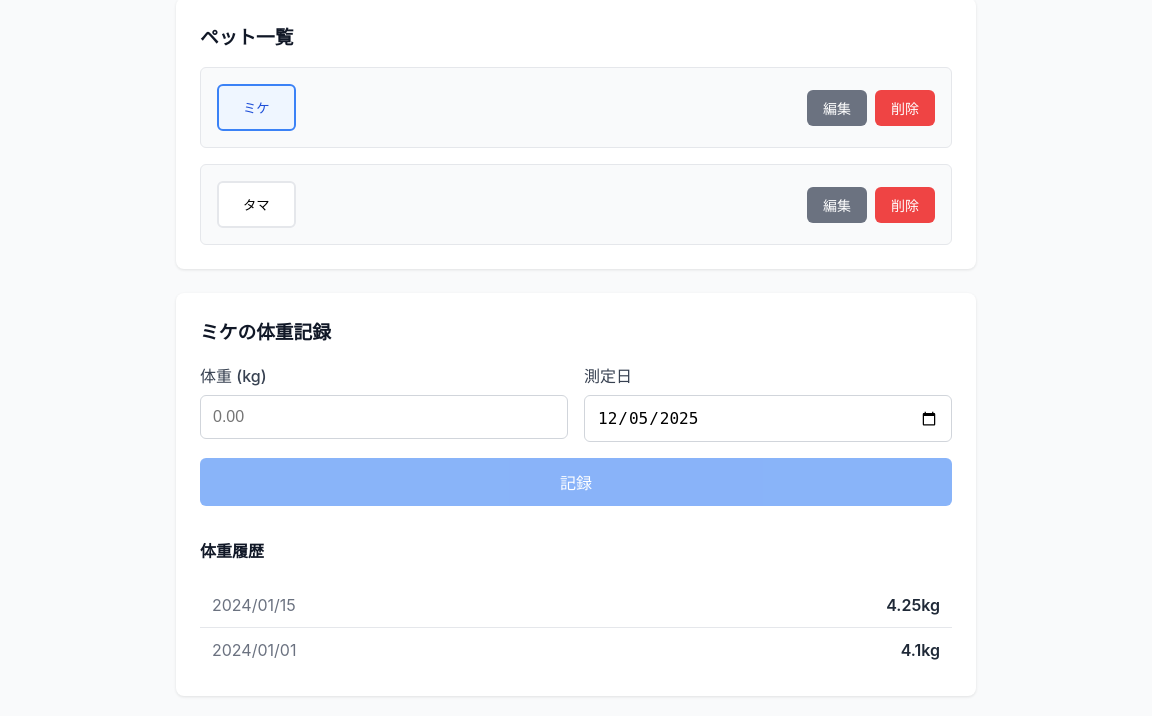
Test case: PetManagement › Weight Record Input Validation › should display error message for invalid weight input
(page scrolled)
Expected: the heading "ミケの体重記録" is shown, top-left (200, 321), bottom-right (331, 344)
Step 1. Type "0" into the number field with placeholder "0.00" → (384, 417), box top-left (200, 395), bottom-right (568, 439)
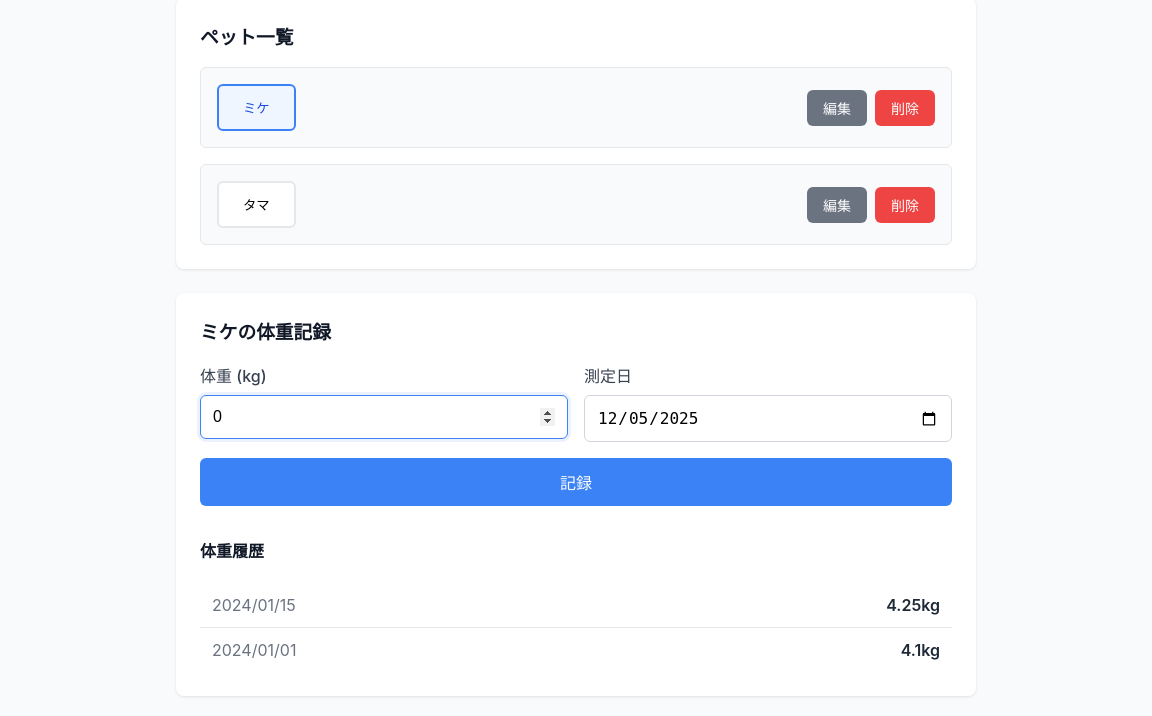
Step 2. Click the button "記録" → (576, 482), box top-left (200, 458), bottom-right (952, 506)
(page scrolled)
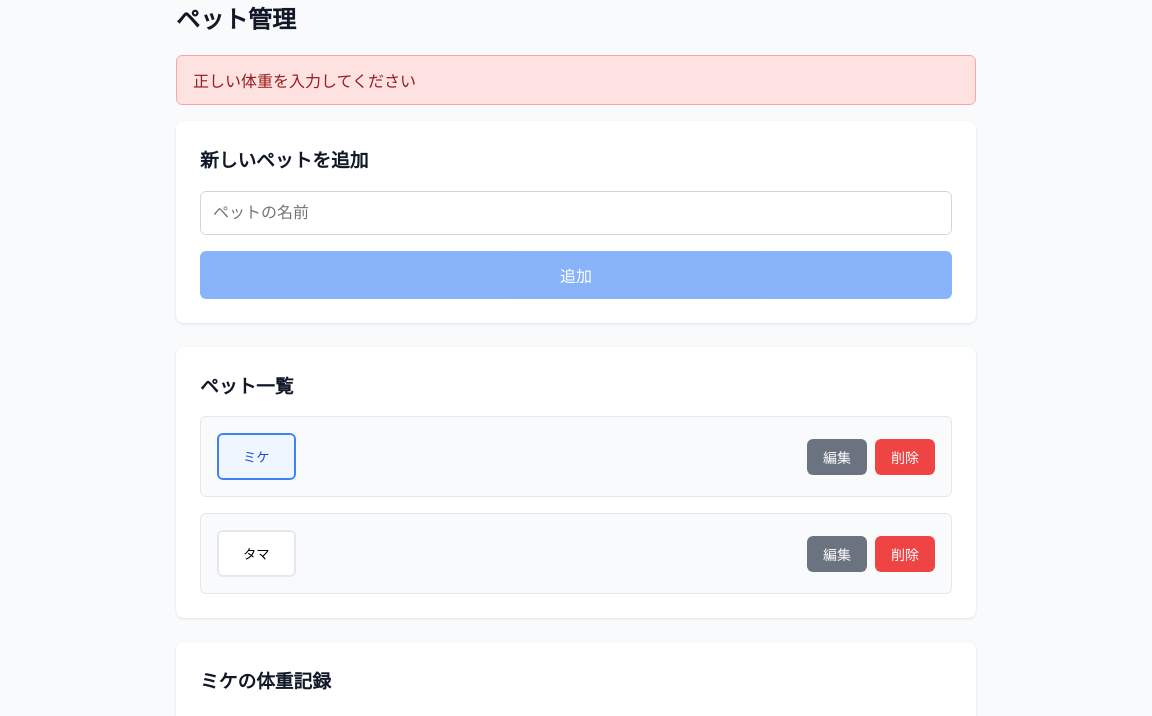
Now the text "正しい体重を入力してください" is shown, box top-left (176, 55), bottom-right (976, 105)
